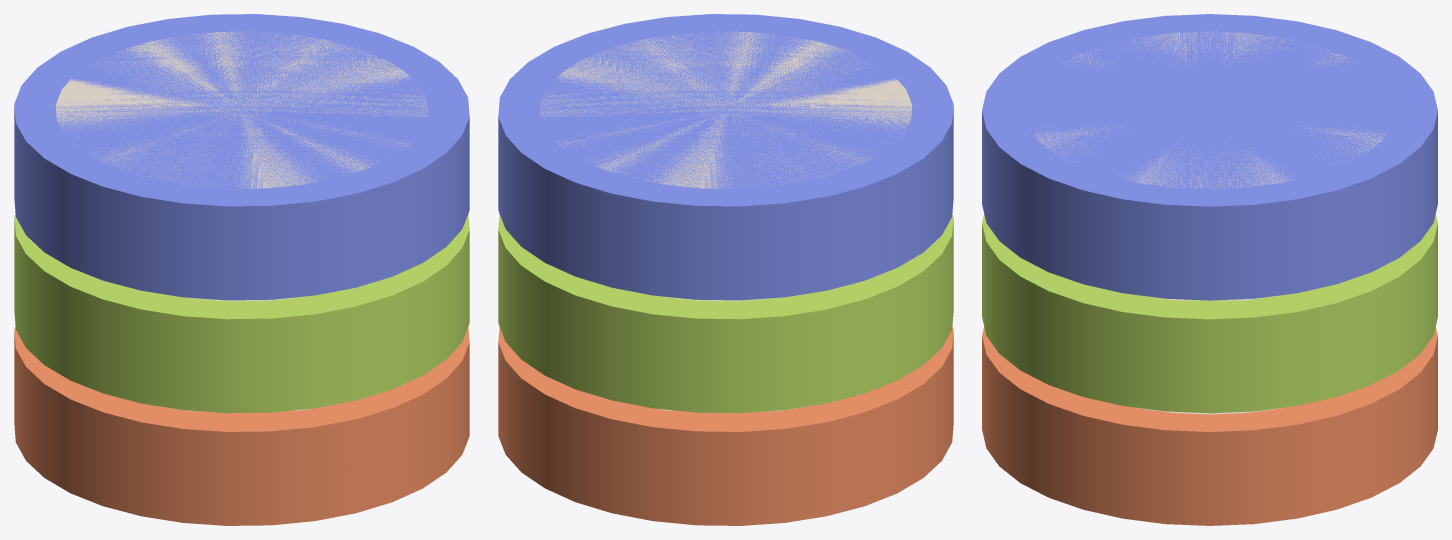
File: balance.glb
3 views of the same model, side by side, from view 1: azimuth 30°, elevation 25°; view 2: azimuth 150°, elevation 25°; view 3: azimuth 270°, elevation 25° (orthographic).
Size of the model in its own units: 1.35 by 1.04 by 1.35.
